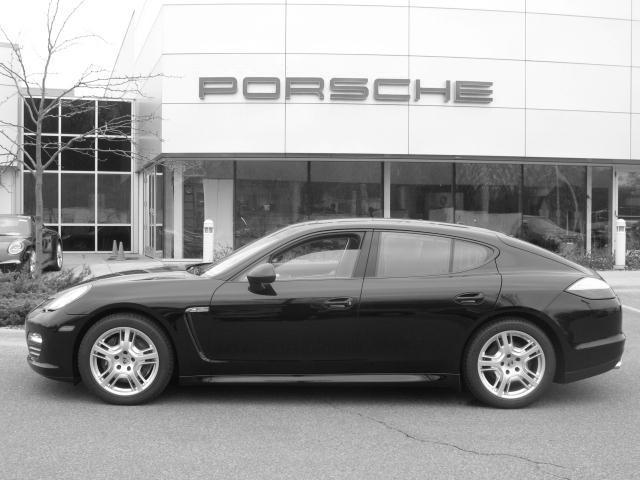car: (25, 215, 625, 411)
